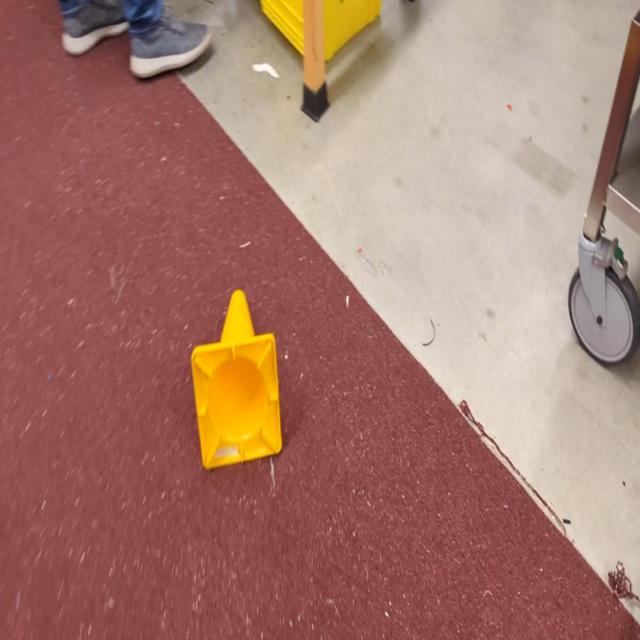frc_cone: (191, 290, 281, 469)
